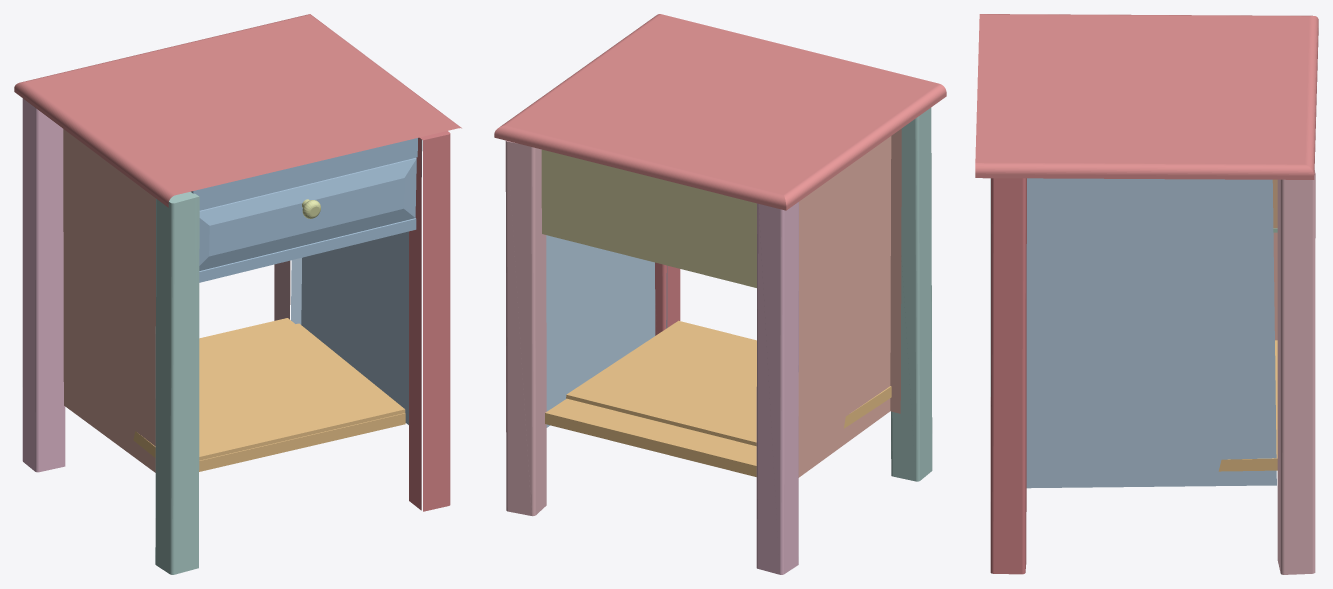
Rendered from 29921_assembly.glb.
The picture shows the model from 3 angles, left to right: view 1: azimuth 30°, elevation 25°; view 2: azimuth 150°, elevation 25°; view 3: azimuth 270°, elevation 25°; orthographic projection. The views are drawn at different scales.
Visible parts, largest first — view 1: part_01, part_02, part_04, part_12, part_10, part_06, part_00, part_11, part_05; view 2: part_01, part_02, part_04, part_07, part_06, part_05, part_11, part_10, part_00; view 3: part_11, part_01, part_05, part_00, part_04, part_02.
Part boxes in pixels (<box>): part_01: <box>14,14,461,207</box>; part_02: <box>63,129,155,472</box>; part_04: <box>133,318,405,471</box>; part_12: <box>191,138,417,282</box>; part_10: <box>155,191,199,574</box>; part_06: <box>22,98,65,472</box>; part_00: <box>409,131,450,511</box>; part_11: <box>291,139,422,424</box>; part_05: <box>274,260,290,320</box>; part_01: <box>494,14,946,210</box>; part_02: <box>798,129,901,477</box>; part_04: <box>545,320,891,476</box>; part_07: <box>541,149,756,287</box>; part_06: <box>756,202,798,574</box>; part_05: <box>505,140,546,516</box>; part_11: <box>546,235,667,427</box>; part_10: <box>891,107,932,481</box>; part_00: <box>655,262,680,335</box>; part_11: <box>1026,178,1276,488</box>; part_01: <box>975,14,1318,179</box>; part_05: <box>1277,170,1315,574</box>; part_00: <box>990,178,1026,574</box>; part_04: <box>1218,340,1277,471</box>; part_02: <box>1273,232,1277,340</box>.
Size of the model in its own units: 0.8409 by 1.04 by 0.7795.
